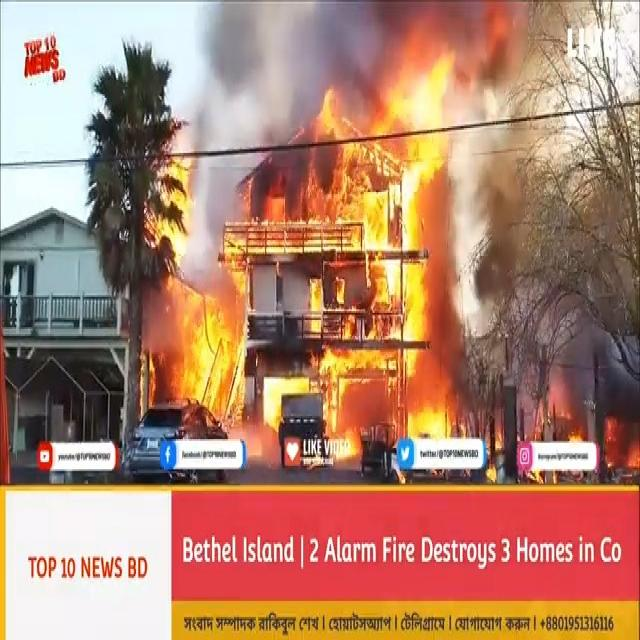fire: (229, 49, 457, 256), (150, 260, 241, 396), (312, 354, 419, 423), (151, 158, 192, 238)
